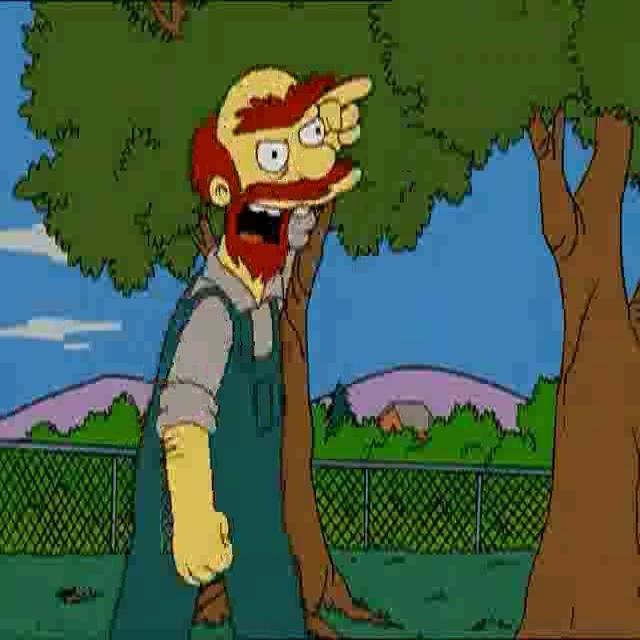Groundskeeper Willie: (190, 61, 354, 286)
